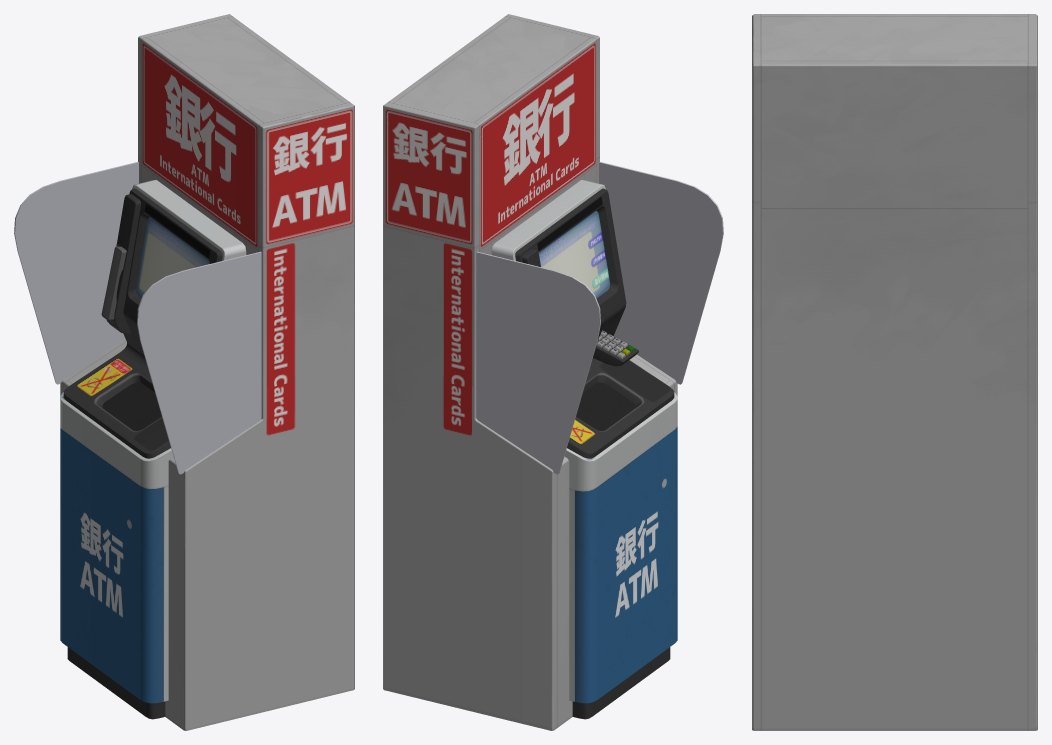
Rendered from SM_ATM.fbx.
3 views of the same model, side by side, from view 1: azimuth 30°, elevation 25°; view 2: azimuth 150°, elevation 25°; view 3: azimuth 270°, elevation 25° (orthographic). The views are drawn at different scales.
Visible parts, largest first — view 1: SM_ATM_LOD0; view 2: SM_ATM_LOD0; view 3: SM_ATM_LOD0.
Part boxes in pixels (box(x1,y1,x2,y2)): SM_ATM_LOD0: box(14, 14, 354, 730); SM_ATM_LOD0: box(383, 14, 723, 730); SM_ATM_LOD0: box(752, 14, 1037, 730).
Size of the model in its own units: 69.91 by 70 by 180.
